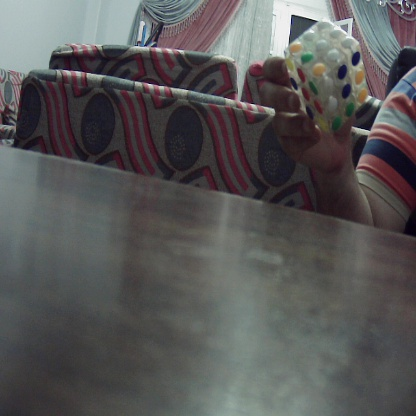Rubix Cube: (283, 17, 368, 138)
